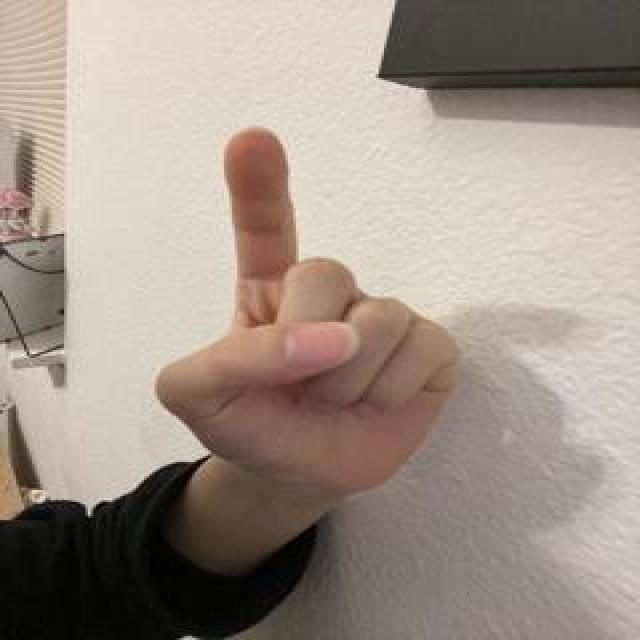Z: (148, 121, 471, 499)
